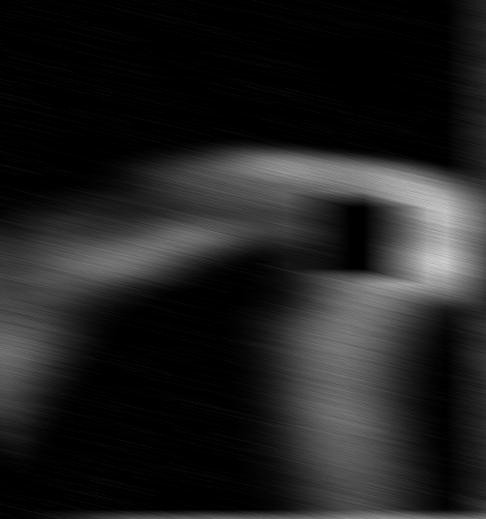Airbag: (0, 1, 486, 519), (470, 0, 486, 519)
